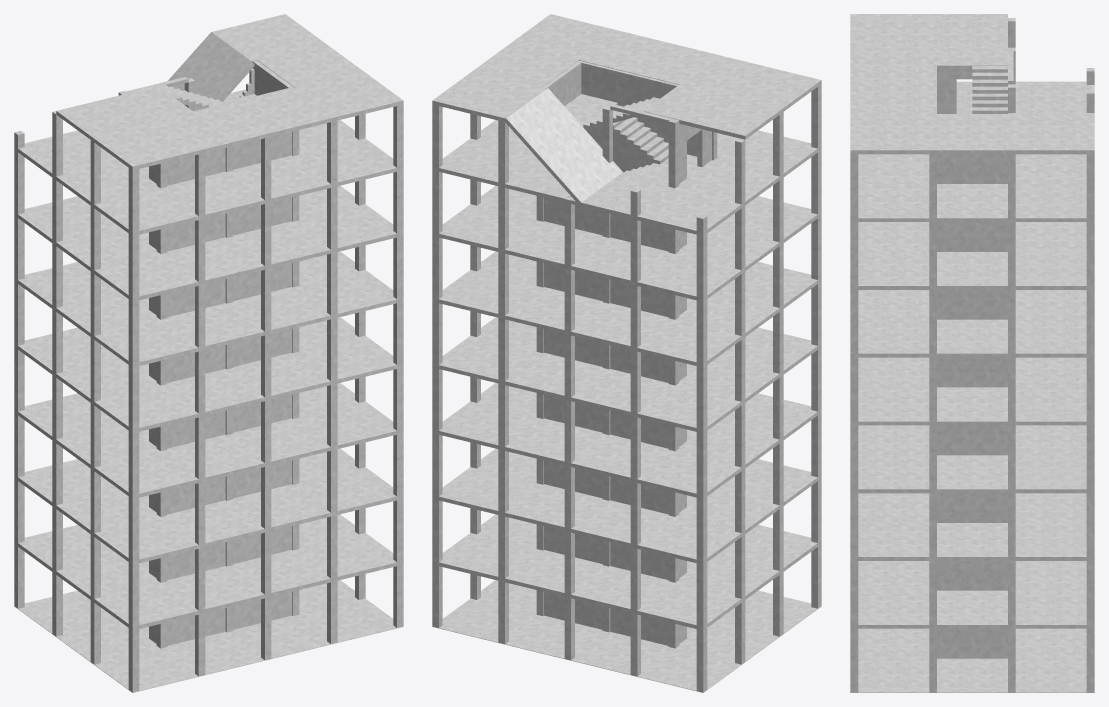
Rendered from Edificio5.obj.
3 renders of one model, left to right at view 1: azimuth 30°, elevation 25°; view 2: azimuth 150°, elevation 25°; view 3: azimuth 270°, elevation 25°, orthographic. The views are drawn at different scales.
Parts seen in each view (by area): view 1: Part760, Part25, Part107, Part116, Part606, Part209, Part507, Part477, Part378, Part723, Part713, Part19 (+104 smaller); view 2: Part760, Part35, Part466, Part99, Part716, Part606, Part123, Part25, Part107, Part116, Part209, Part507 (+105 smaller); view 3: Part760, Part100, Part381, Part513, Part27, Part605, Part216, Part723, Part473, Part113, Part713, Part599 (+64 smaller).
Part boxes in pixels (<box>): Part760: <box>221,18,392,114</box>; Part25: <box>25,396,194,489</box>; Part107: <box>25,593,194,687</box>; Part116: <box>25,527,194,621</box>; Part606: <box>25,133,194,226</box>; Part209: <box>25,462,194,555</box>; Part507: <box>25,199,194,292</box>; Part477: <box>25,264,194,358</box>; Part378: <box>25,330,194,424</box>; Part723: <box>161,88,331,147</box>; Part713: <box>63,94,196,162</box>; Part19: <box>163,418,326,474</box>; Part760: <box>443,18,614,113</box>; Part35: <box>444,401,672,474</box>; Part466: <box>443,270,672,342</box>; Part99: <box>443,600,672,671</box>; Part716: <box>506,89,621,202</box>; Part606: <box>641,133,810,226</box>; Part123: <box>444,533,672,605</box>; Part25: <box>641,396,810,489</box>; Part107: <box>641,593,810,687</box>; Part116: <box>641,527,810,621</box>; Part209: <box>641,462,810,555</box>; Part507: <box>641,199,810,292</box>; Part760: <box>858,116,1086,146</box>; Part100: <box>858,658,1086,689</box>; Part381: <box>858,387,1086,418</box>; Part513: <box>858,251,1086,282</box>; Part27: <box>858,455,1086,485</box>; Part605: <box>858,184,1086,214</box>; Part216: <box>858,522,1086,553</box>; Part723: <box>858,48,932,115</box>; Part473: <box>858,319,1086,350</box>; Part113: <box>858,590,1086,621</box>; Part713: <box>858,17,1007,48</box>; Part599: <box>1015,154,1086,214</box>.
Size of the model in its own units: 82 by 152 by 62.
Materials: 2 (2 with a texture image).
